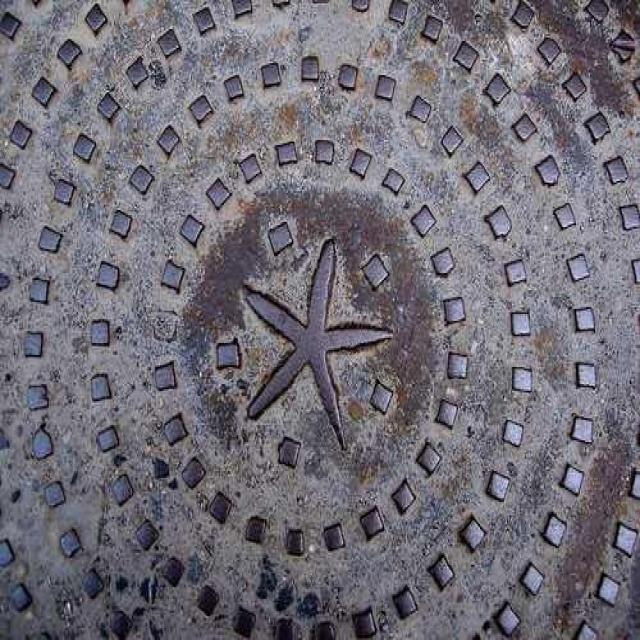manhole: (0, 0, 640, 638)
